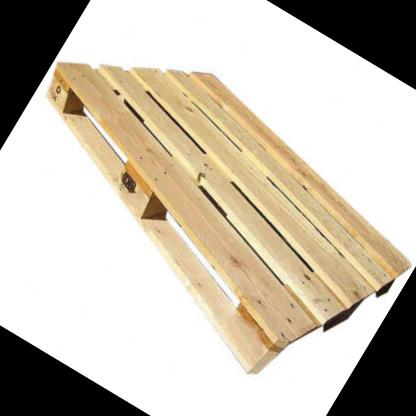BoxFace: (45, 58, 413, 378)
